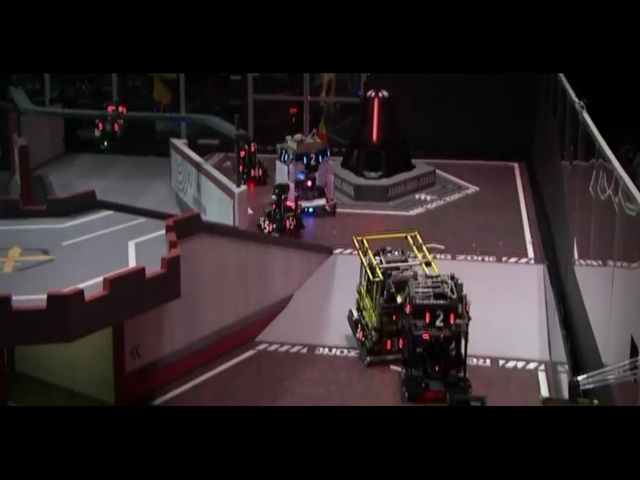plate: (165, 319, 211, 348), (307, 141, 340, 167), (431, 323, 457, 353), (234, 308, 253, 335), (209, 198, 230, 218), (374, 321, 389, 349), (178, 196, 195, 216), (265, 145, 279, 165), (346, 117, 357, 135)
